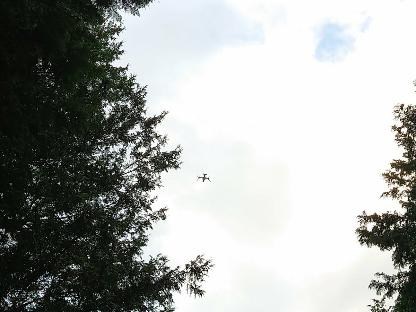Tornado: (196, 172, 210, 182)
